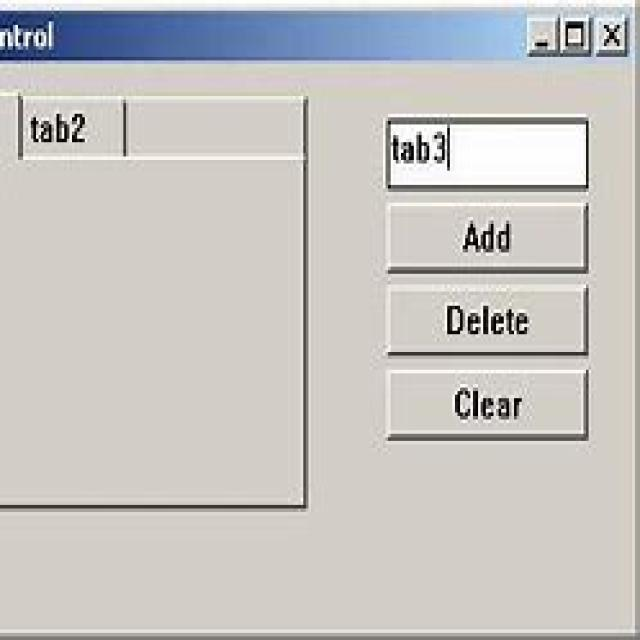button: (385, 365, 591, 443), (383, 200, 591, 277), (385, 282, 590, 358), (524, 14, 559, 59), (592, 14, 628, 56), (559, 13, 592, 57)
input: (386, 112, 591, 192)
tabControl: (0, 92, 312, 168)
